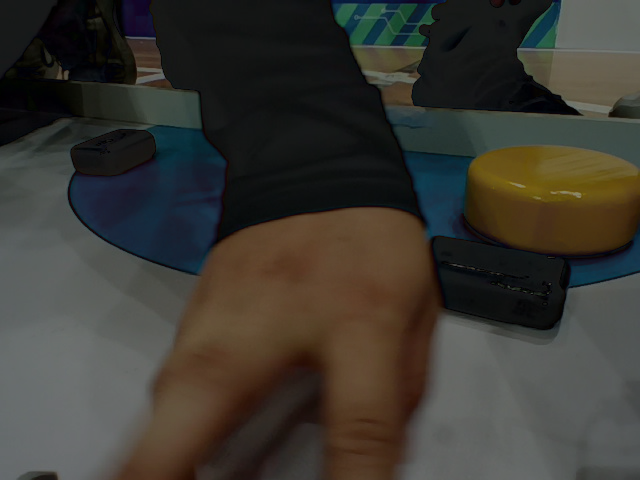black: (422, 225, 585, 333), (64, 118, 162, 180)
yellow: (449, 144, 640, 263)
